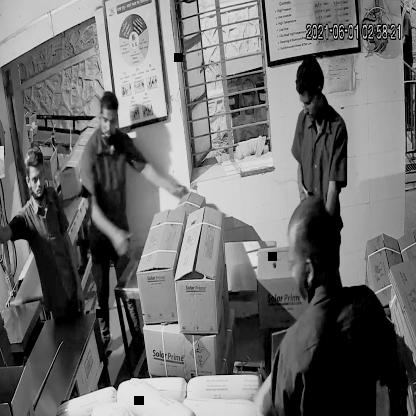no_goggles: (25, 165, 47, 191)
